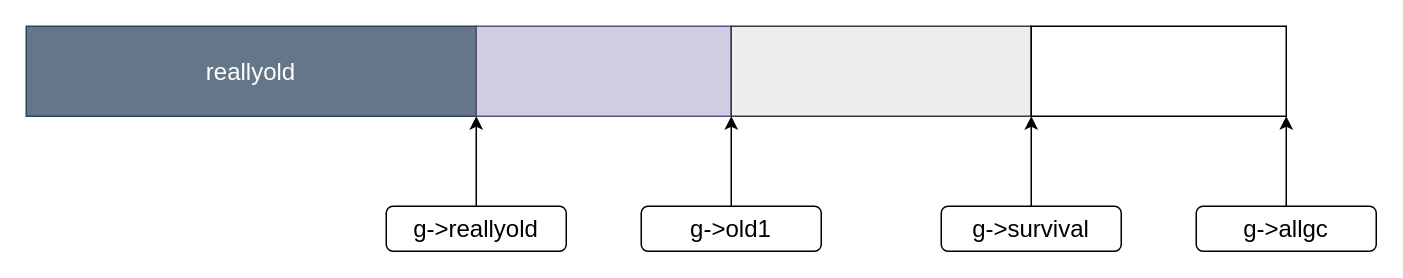
Image size: 1403x278. Some labels were removed from this diagram. Here are the shapes that lost their labels. From the top down, the centre of each, then its label:
At point (603, 70): "old1".
At point (880, 70): "survival".
At point (1158, 70): "new".
